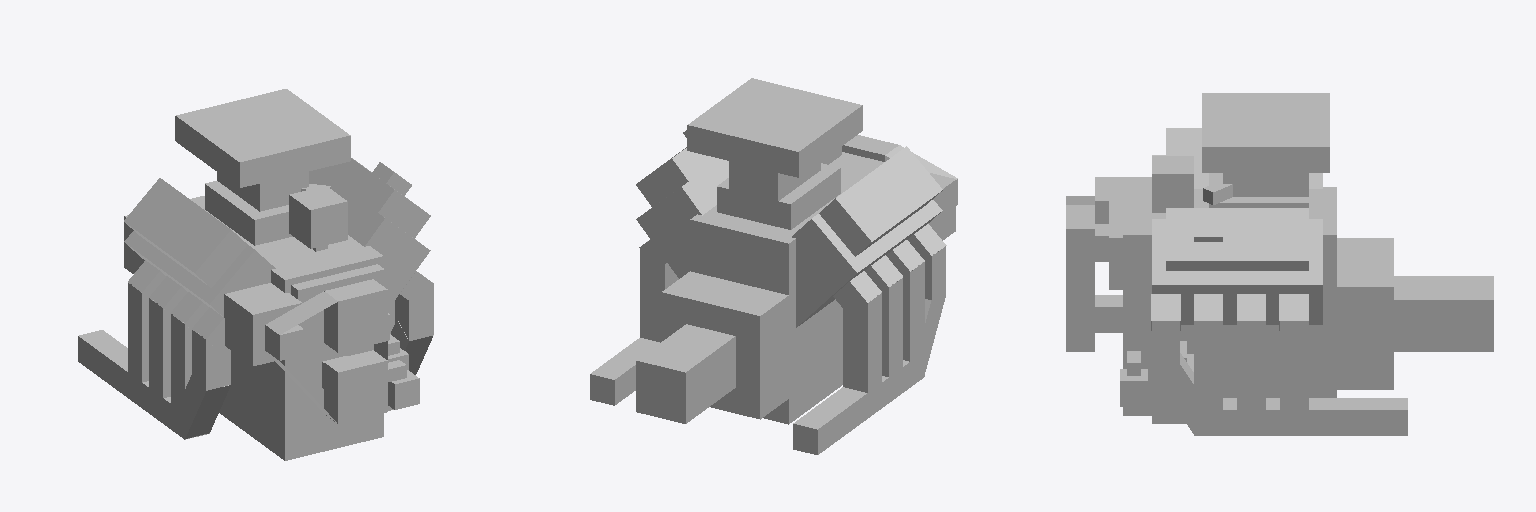
Rendered from enginefordfe428.obj.
3 views of the same model, side by side, from view 1: azimuth 30°, elevation 25°; view 2: azimuth 150°, elevation 25°; view 3: azimuth 270°, elevation 25° (orthographic).
Parts seen in each view (by area): view 1: EngineBlock, $wheeltransmission, $wheelmain, $wheelgenerator; view 2: EngineBlock, $wheelmain; view 3: EngineBlock, $wheelmain, $wheeltransmission.
Part boxes in pixels (left/top/right/bottom): EngineBlock: left=78, top=89, right=433, bottom=460; $wheeltransmission: left=322, top=350, right=387, bottom=423; $wheelmain: left=324, top=279, right=387, bottom=352; $wheelgenerator: left=265, top=325, right=303, bottom=360; EngineBlock: left=590, top=78, right=957, bottom=454; $wheelmain: left=842, top=135, right=898, bottom=161; EngineBlock: left=1066, top=93, right=1493, bottom=435; $wheelmain: left=1066, top=205, right=1108, bottom=261; $wheeltransmission: left=1066, top=295, right=1122, bottom=351.
Size of the model in its own units: 1.2 by 1.31 by 1.88.